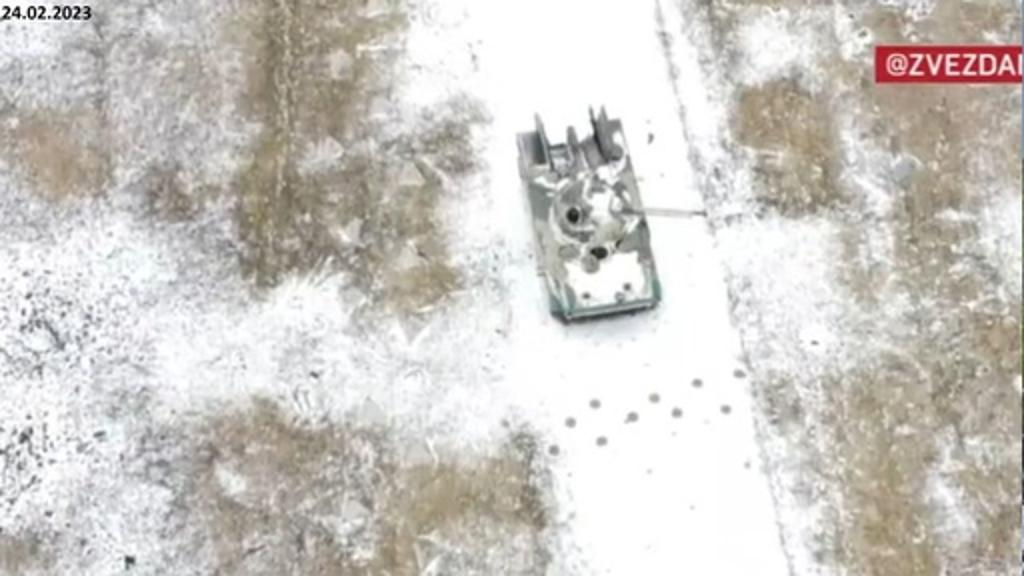APC-IFV: (506, 100, 674, 324)
